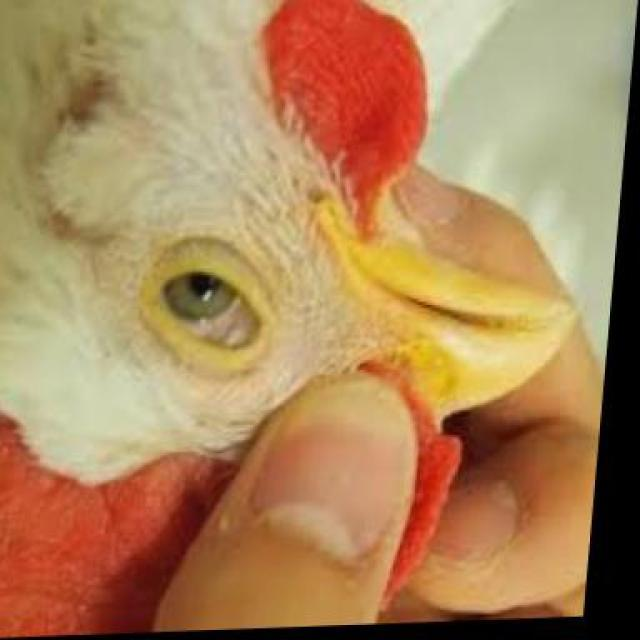Coryza: (127, 228, 296, 372)
